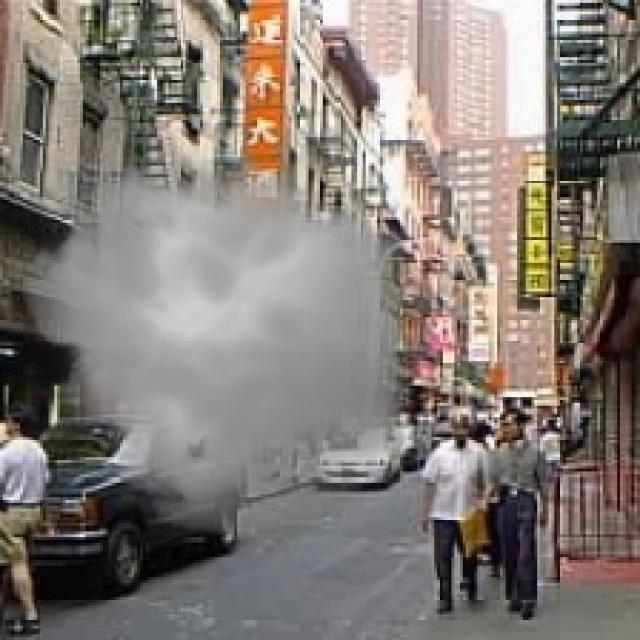Smoke: (9, 140, 428, 549)
